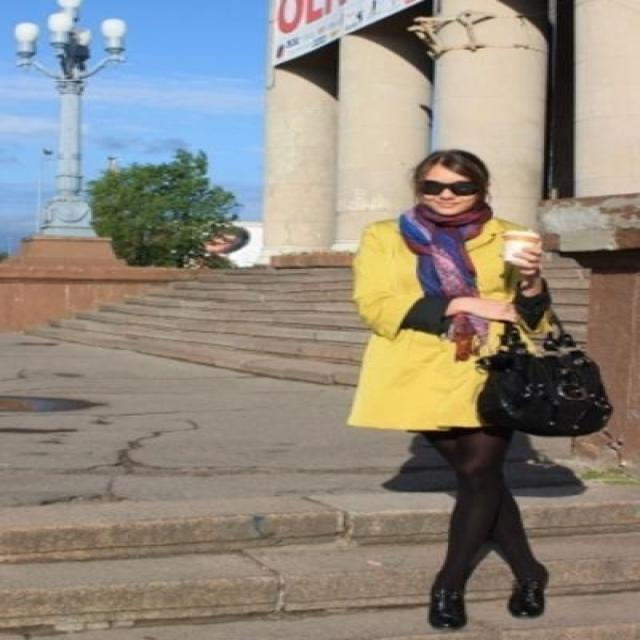bag: (477, 316, 611, 442)
jacket: (347, 215, 523, 429)
shirt: (397, 281, 550, 336)
shoe: (422, 576, 544, 629)
